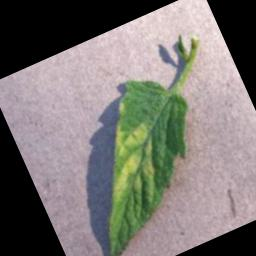Leaf_Mold: (77, 94, 171, 202)
